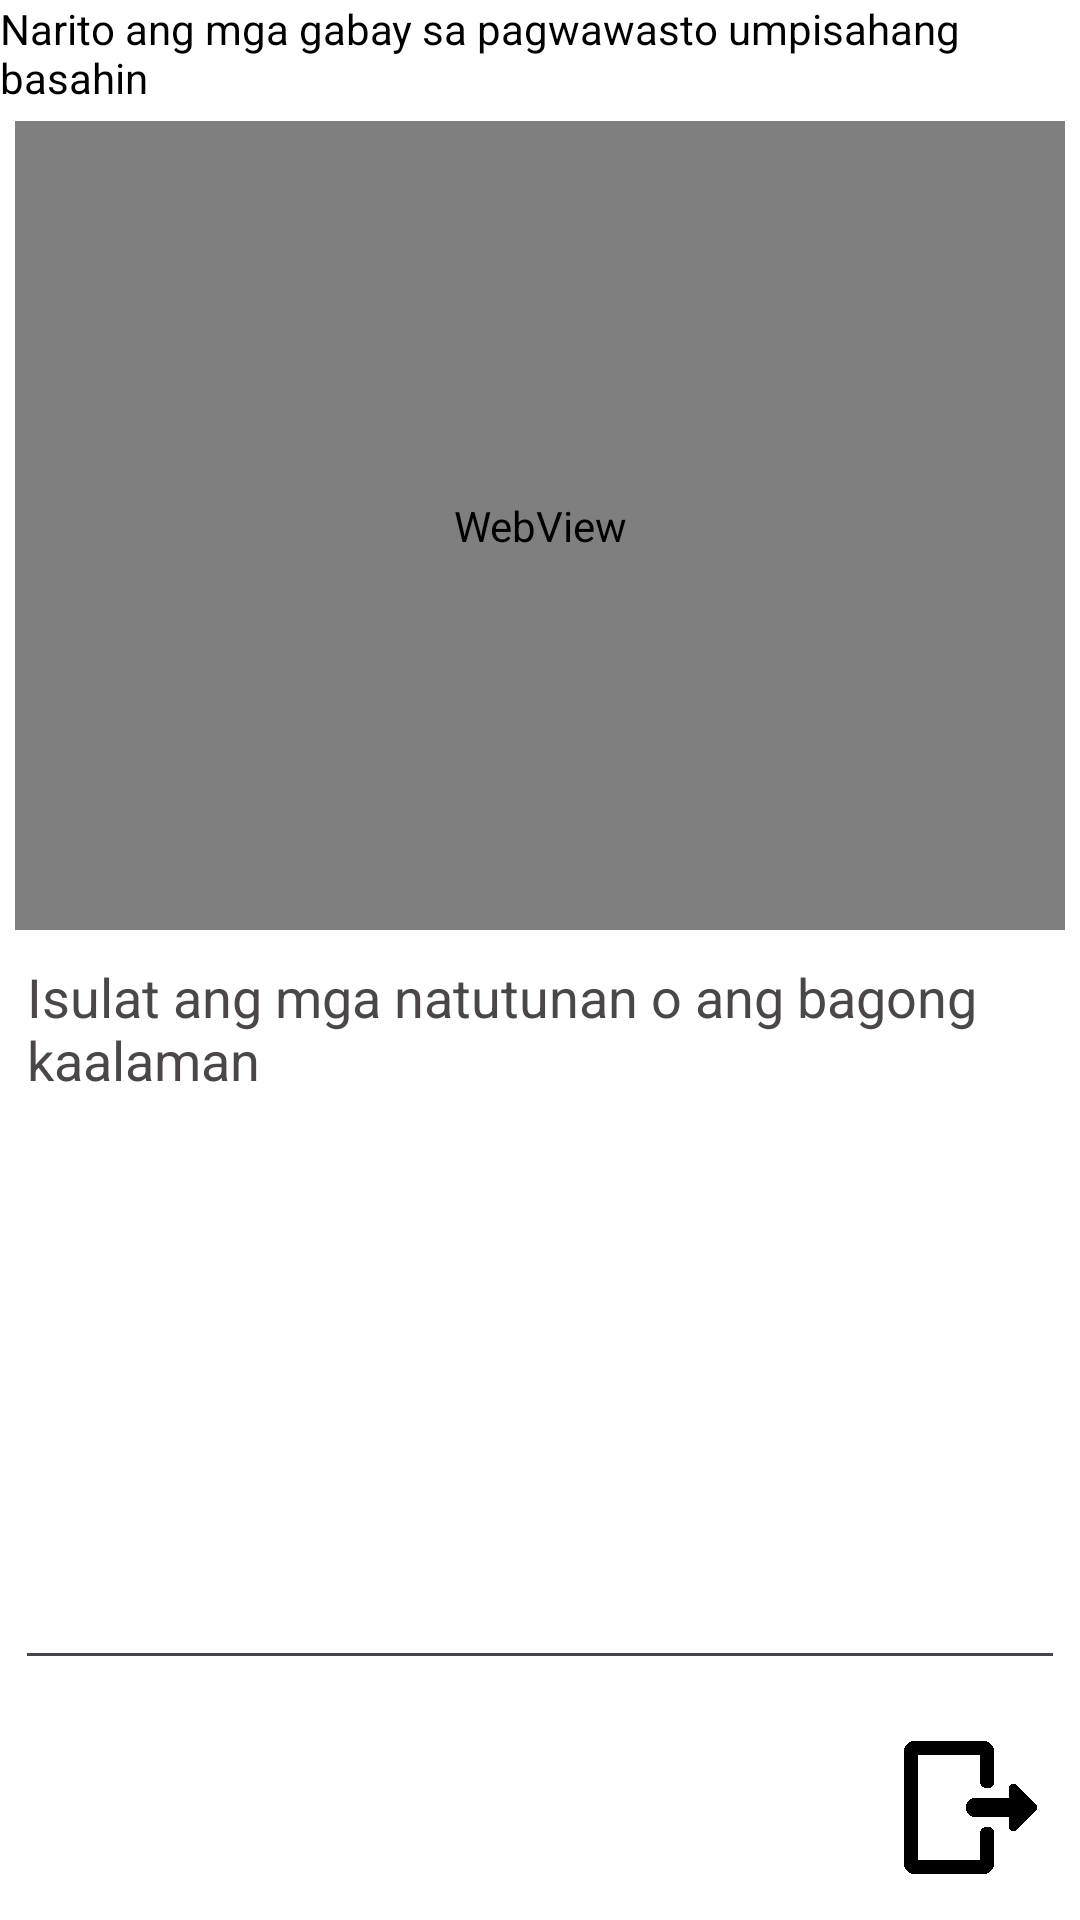

Icon click points for this 1080px x 1920px phone screenshot, format point (x, y):
exit: point (970, 1807)
